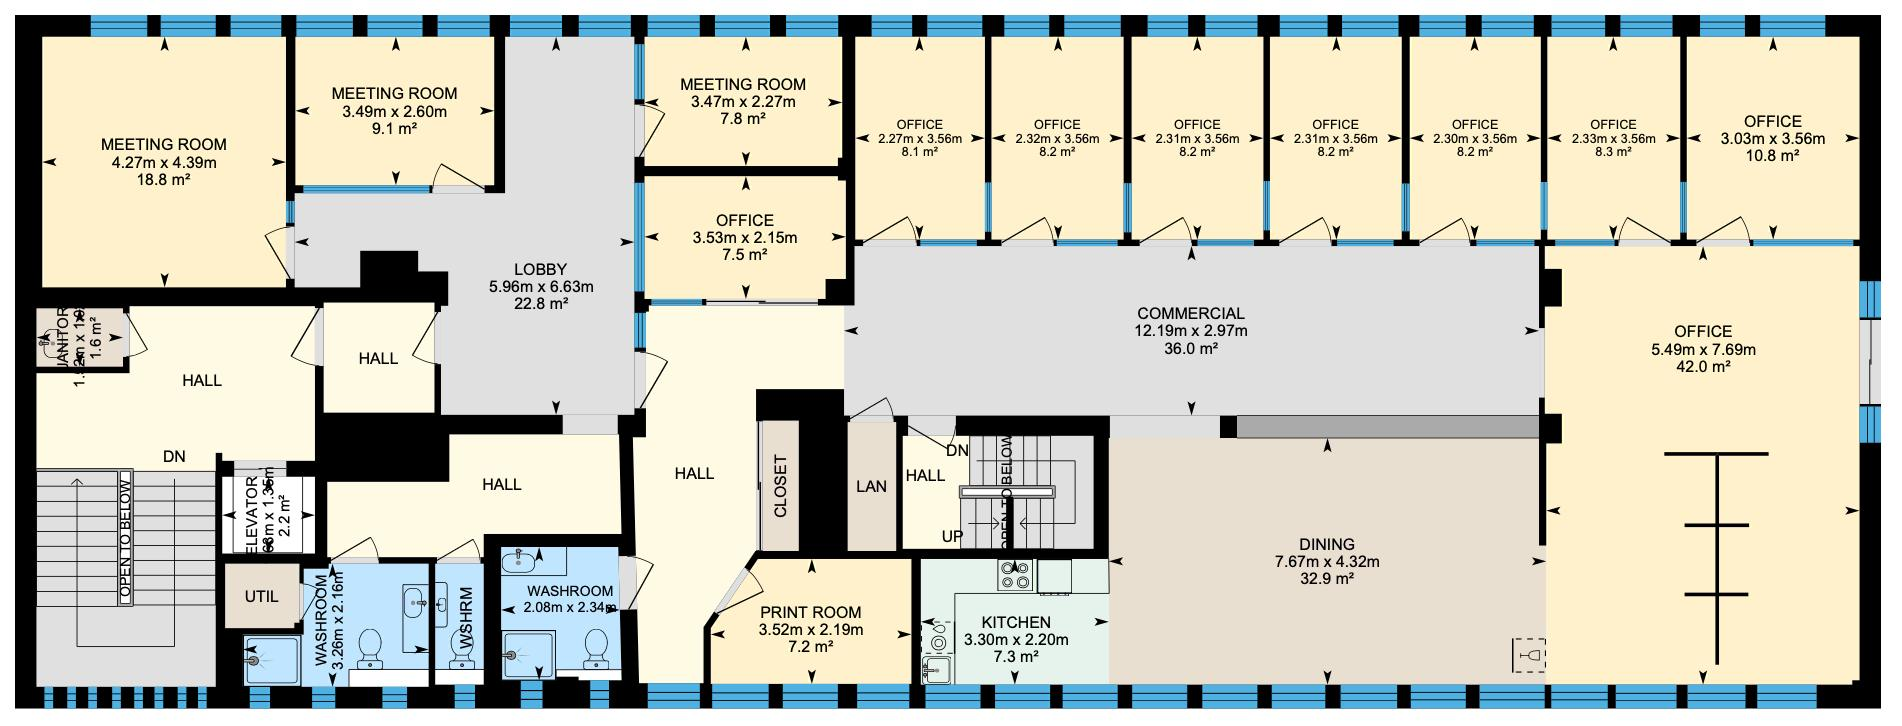room: (902, 421, 1543, 687), (1544, 244, 1870, 694), (633, 303, 843, 684), (32, 33, 291, 299), (28, 299, 317, 468), (1685, 33, 1863, 242), (318, 430, 628, 538), (291, 33, 501, 189), (1544, 34, 1685, 242), (1128, 32, 1266, 244), (708, 554, 916, 694), (849, 34, 989, 242), (1406, 33, 1544, 242), (642, 29, 845, 171), (990, 34, 1127, 244), (1269, 33, 1406, 242), (221, 559, 431, 690), (640, 173, 849, 302), (492, 539, 630, 682), (320, 302, 435, 427), (432, 558, 490, 686)
